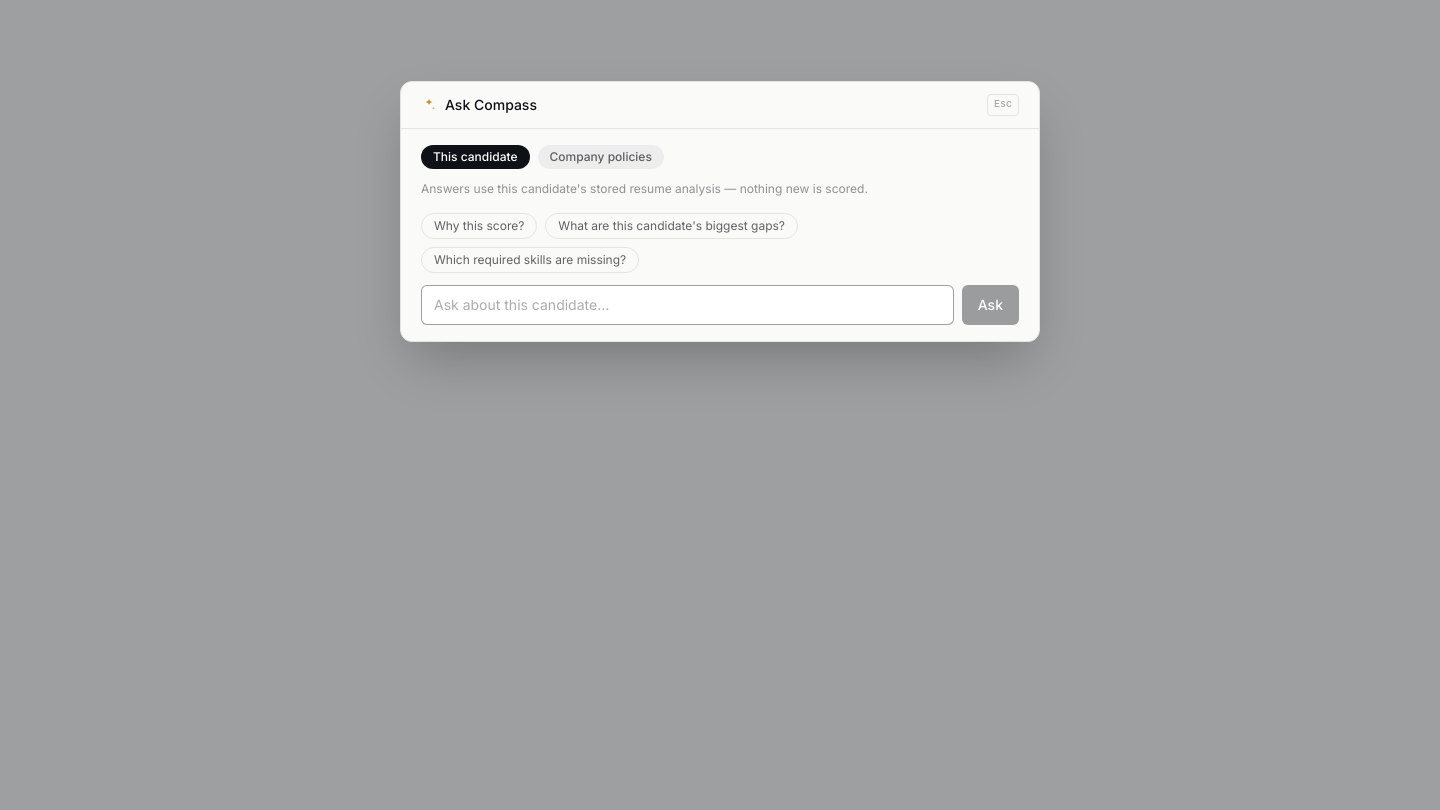
Scenario: CompassPanel › lets staff switch between the candidate and company questions
This screenshot has width=1440, height=810.
Expected: the button "Why this score?" is shown, 421,213 -> 537,239
What coordinates should you click on to do the following:
click the button "Company policies"
I would click on:
 (601, 157)
Its box is 538,145 -> 664,169.
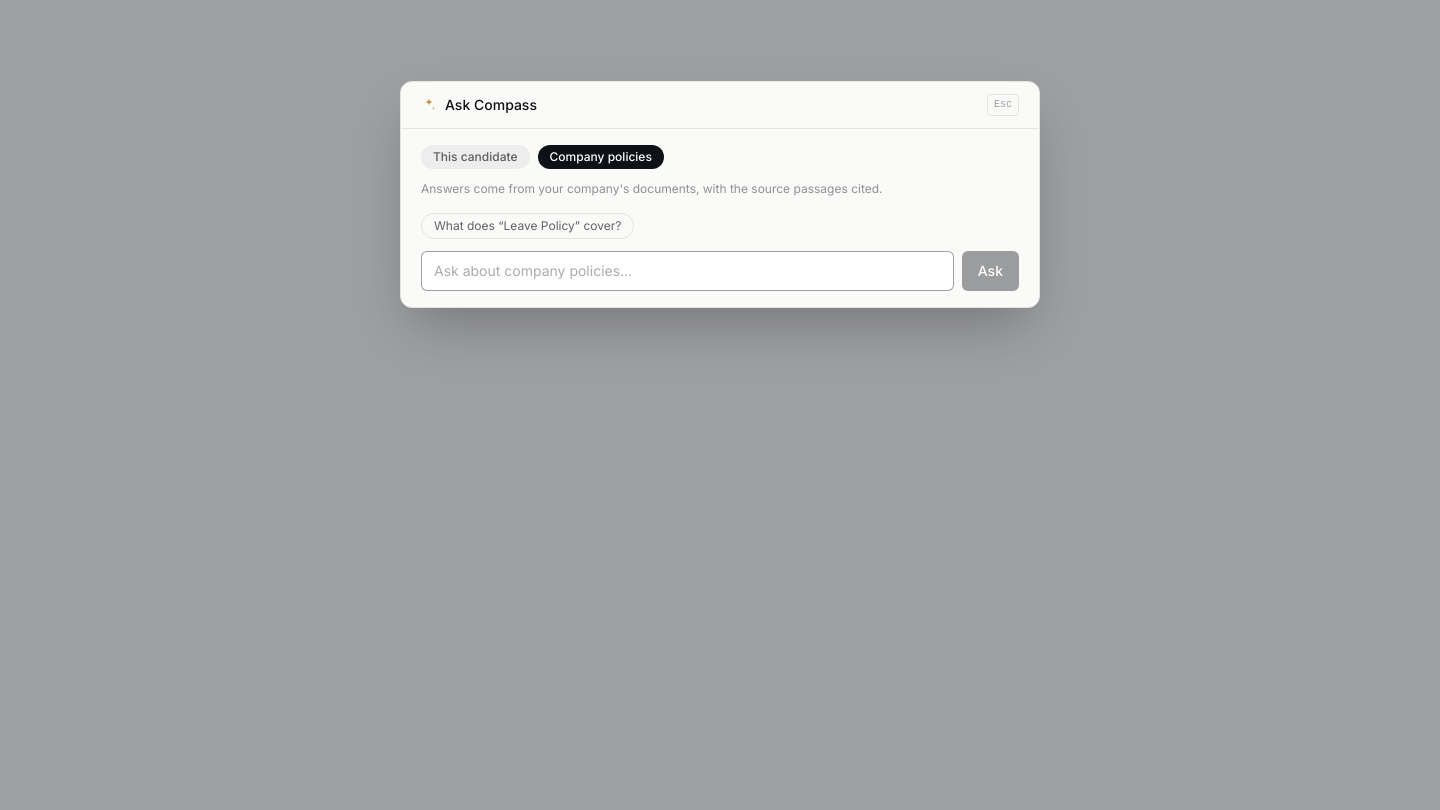
Now the button "What does “Leave Policy” cover?" is shown, box 421,213 -> 634,239
Now the button "Why this score?" is gone
What coordinates should you click on to do the following:
click the button "This candidate"
I would click on:
 (475, 157)
Its box is 421,145 -> 530,169.
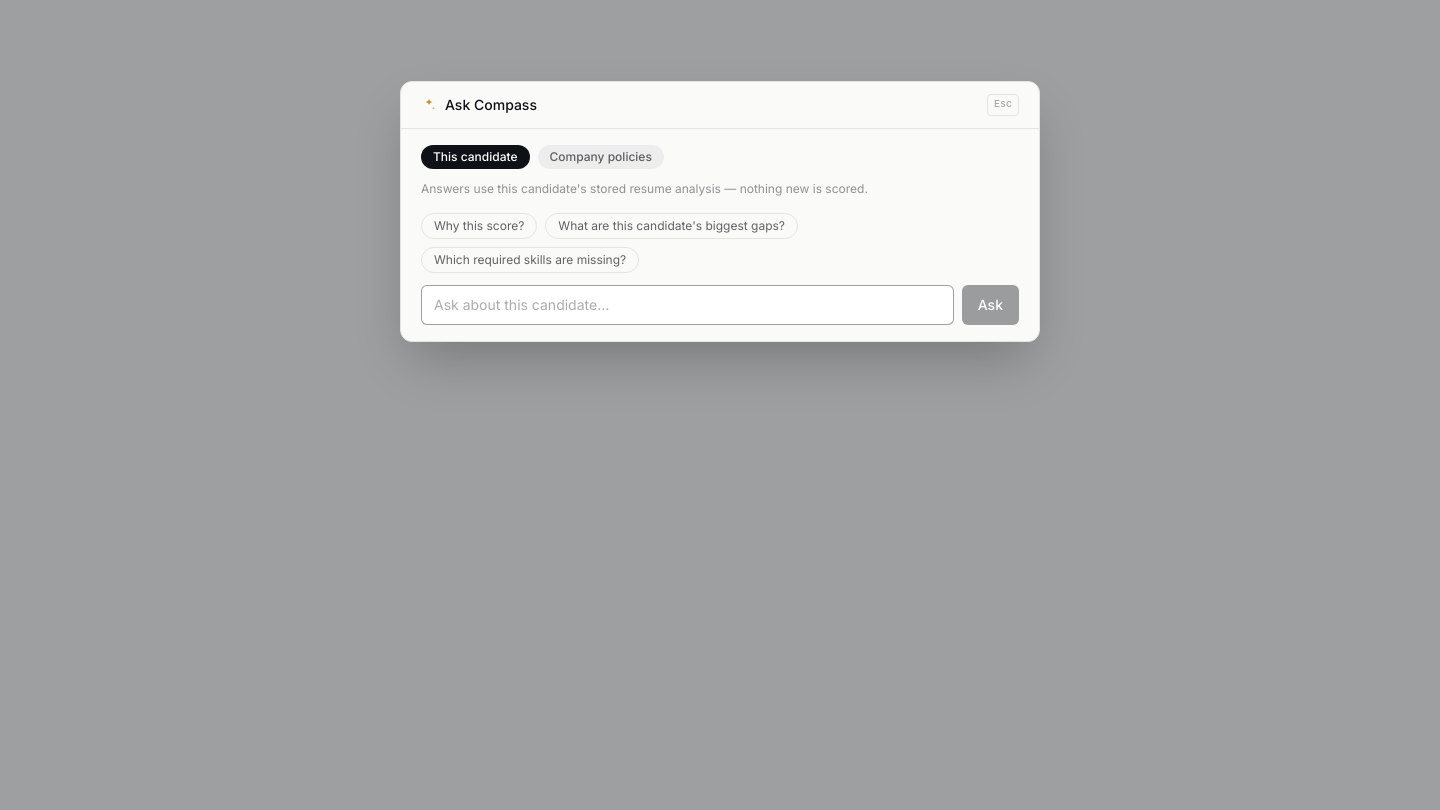
Now the button "Why this score?" is shown, box 421,213 -> 537,239
